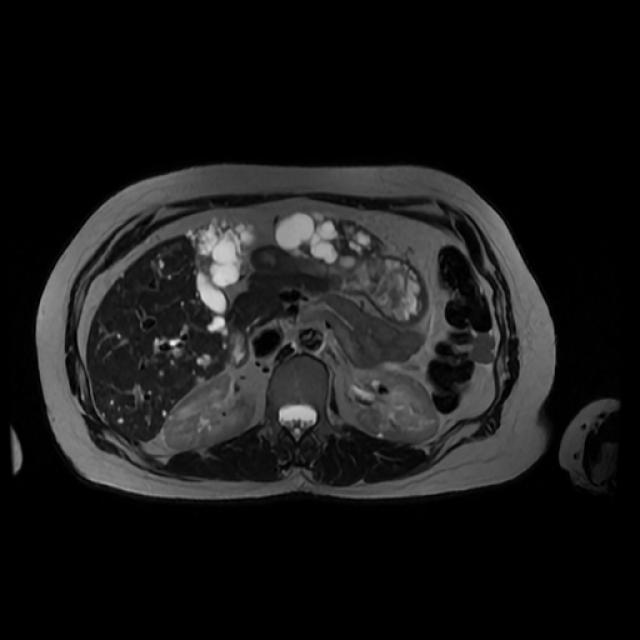sag: (166, 376, 257, 446)
sol: (349, 368, 439, 443)
